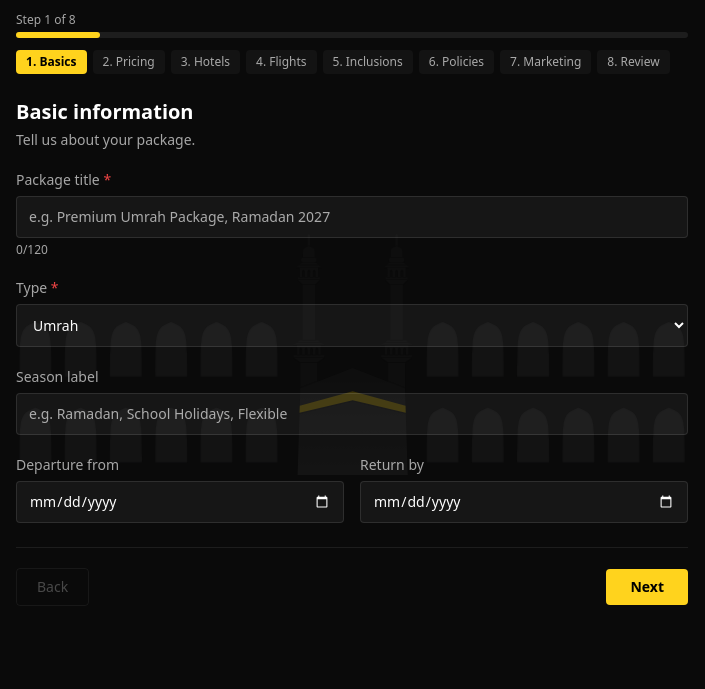
Test: PackageWizard › does not advance to step 2 without valid title
The image size is (705, 689).
What coordinates should you click on to do the following:
click the button with test id "wizard-next-btn"
I would click on:
 (647, 587)
Its box is [606,569,688,605].
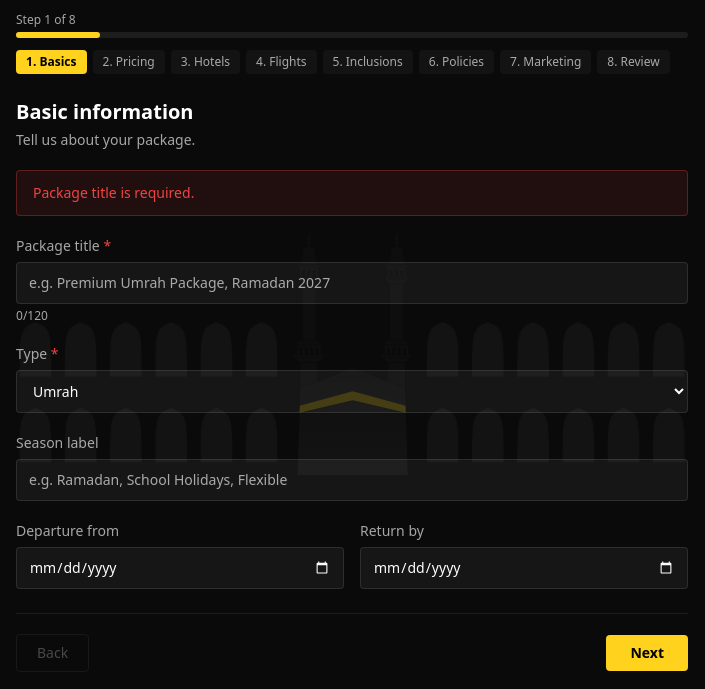
Expected: the field with test id "wizard-title" is shown, [16,262,688,304]
Now the message "Package title is required." is shown, box [16,170,688,216]
